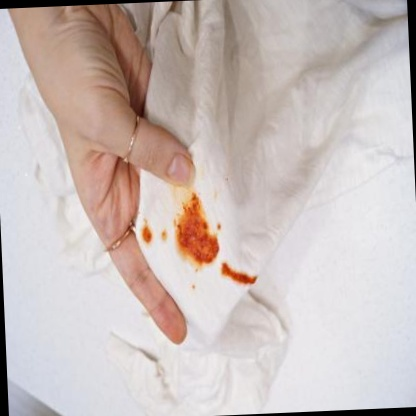kimchi: (174, 201, 220, 266), (216, 263, 258, 291), (137, 222, 157, 245), (158, 229, 169, 244), (217, 222, 225, 235), (191, 265, 200, 276), (221, 178, 232, 187), (190, 289, 196, 294)
